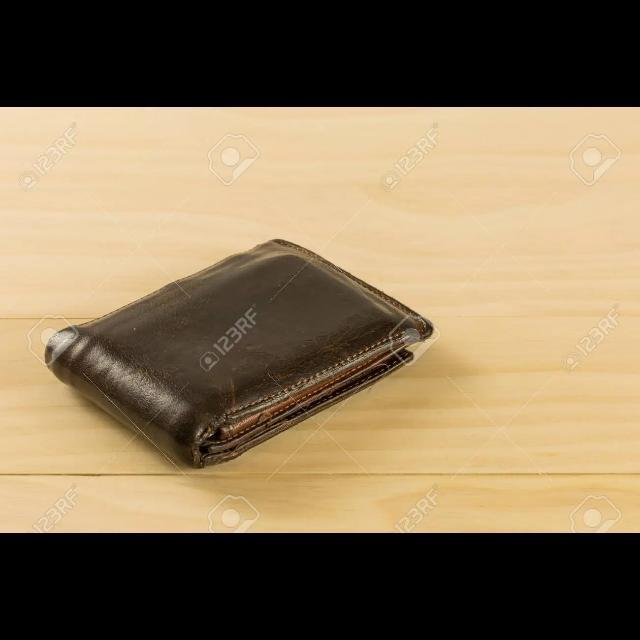wallet: (38, 210, 466, 458)
